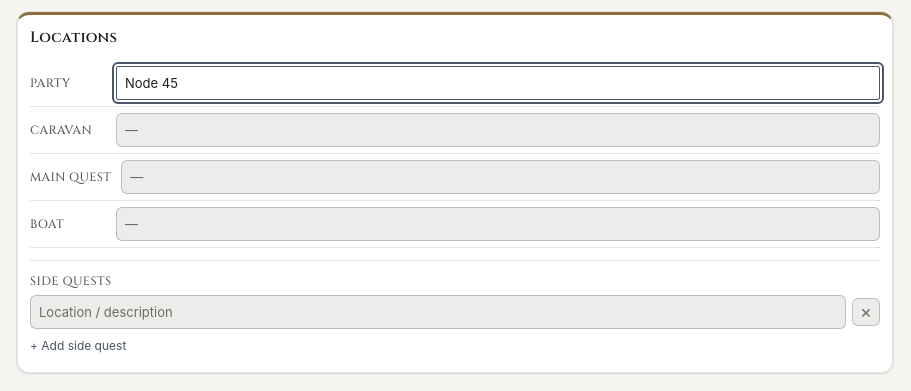
Test: Campaign fixed-location inputs (AVE-784) › abandons the edit on Escape and restores the committed value
Replace the text in the field with id "loc-party" with "typo" at (498, 83), box [116,66,880,100]
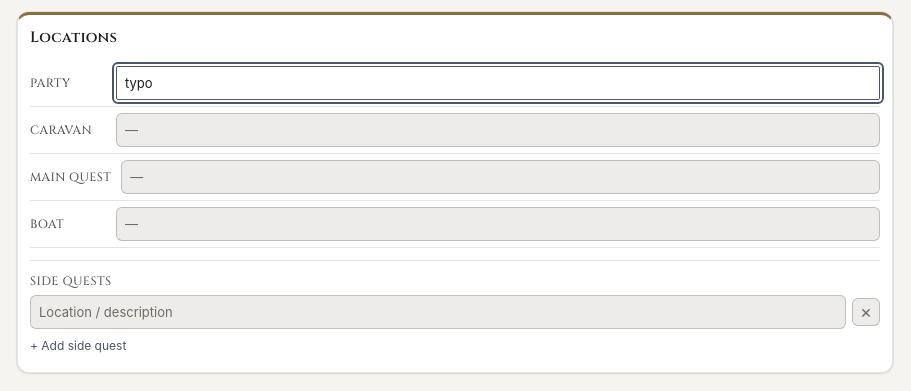
Press Escape in the field with id "loc-party", box [116,66,880,100]
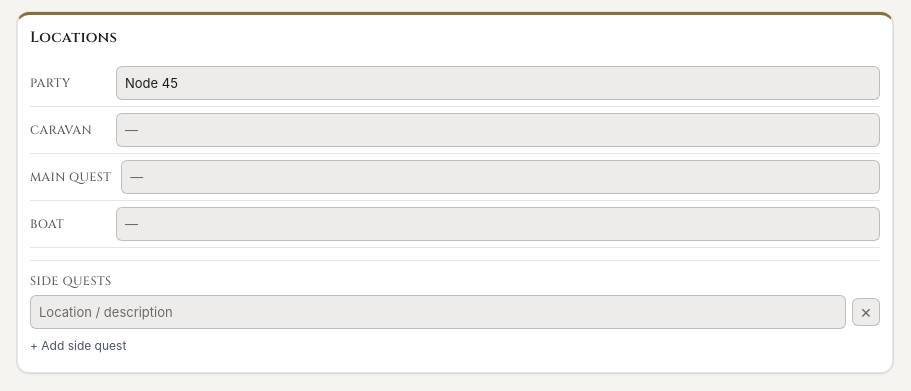
Expected: the field with id "loc-party" holds "Node 45", [116,66,880,100]
